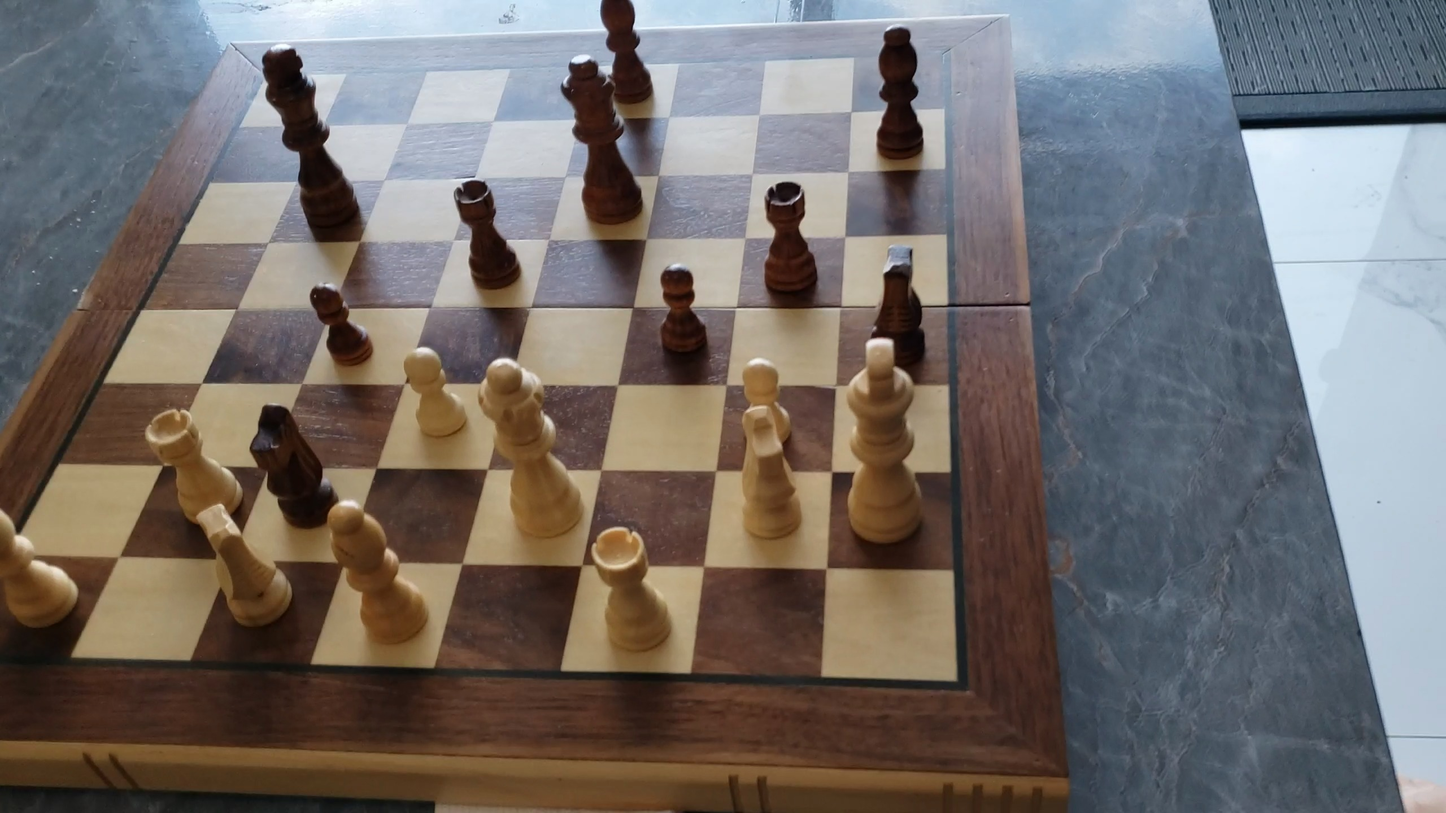black-bishop: (867, 22, 933, 170), (603, 0, 667, 105)
black-king: (244, 33, 362, 254)
black-knight: (248, 401, 339, 527), (865, 241, 929, 366)
black-pawn: (293, 282, 386, 371), (655, 259, 708, 357)
black-queen: (554, 54, 638, 225)
black-rook: (450, 176, 523, 291), (759, 178, 820, 296)
white-bishop: (322, 499, 432, 649), (0, 508, 84, 633)
white-king: (842, 338, 932, 554)
white-knight: (184, 505, 309, 630), (721, 404, 809, 554)
white-pawn: (394, 346, 466, 446)
white-queen: (474, 354, 589, 542)
white-rook: (141, 403, 247, 535), (586, 523, 678, 657)
